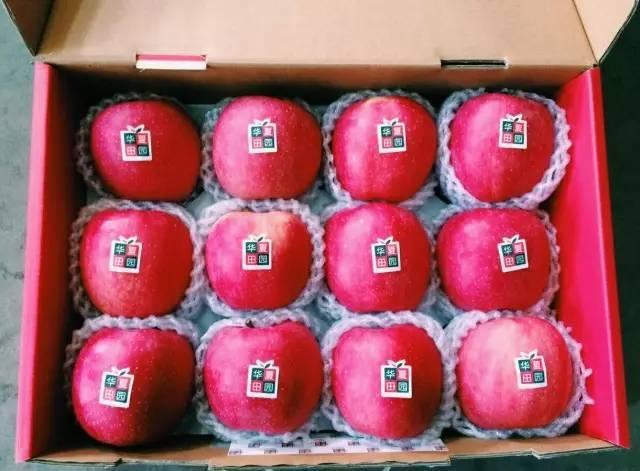apple: (451, 311, 586, 433), (68, 325, 199, 443), (323, 314, 444, 440), (435, 88, 562, 208), (195, 316, 323, 435), (79, 207, 198, 319), (436, 208, 557, 313), (321, 204, 434, 313), (212, 95, 324, 201), (206, 208, 316, 313), (331, 96, 434, 203), (88, 102, 202, 197)
